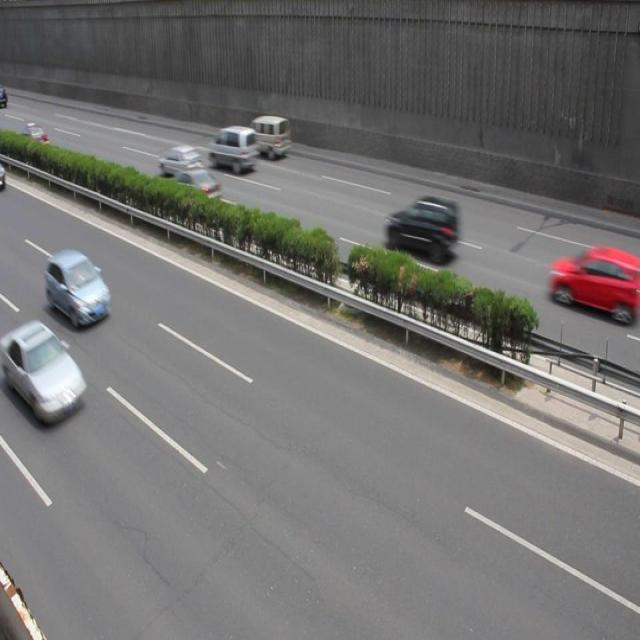car: (1, 319, 87, 423), (545, 240, 640, 324), (383, 194, 458, 266), (46, 249, 112, 326), (163, 168, 221, 216), (159, 144, 201, 177)
truck: (207, 126, 257, 172), (245, 116, 291, 158)
